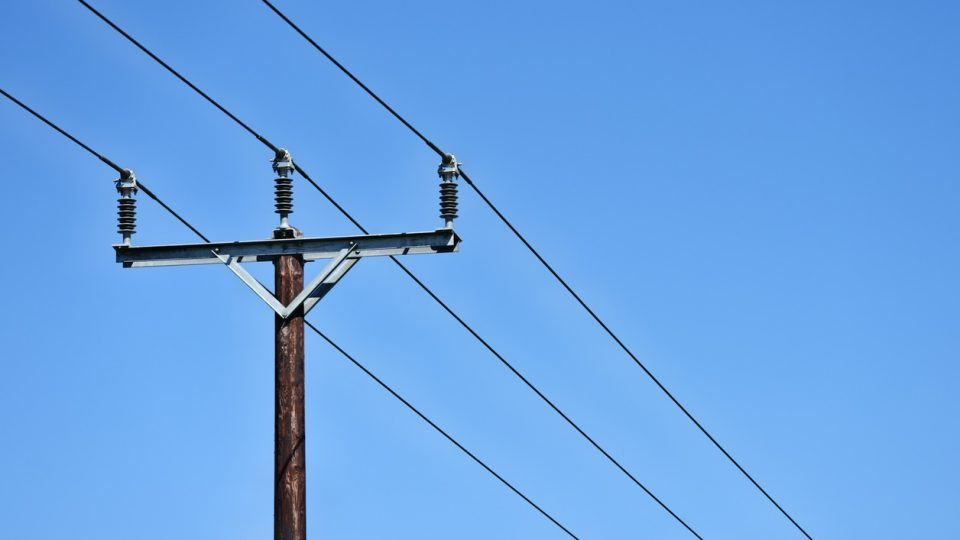utility_pole: (84, 123, 481, 380)
